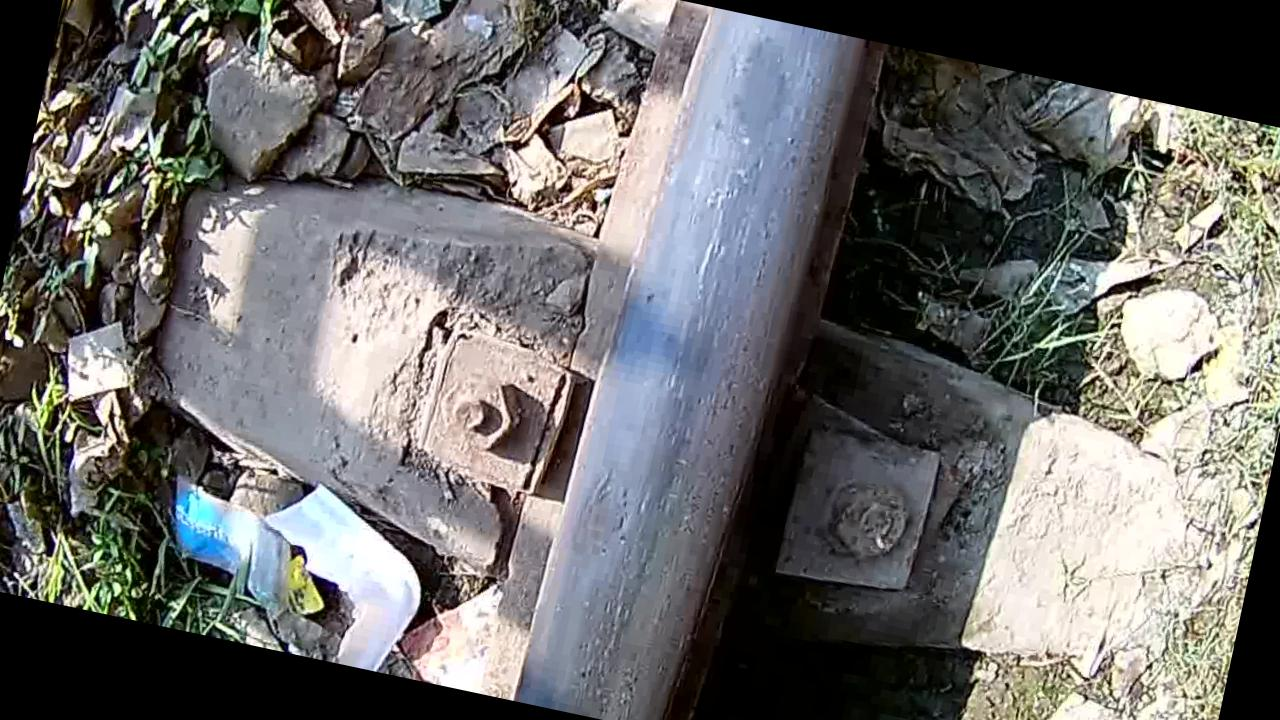bolt_missing: (661, 6, 860, 264)
